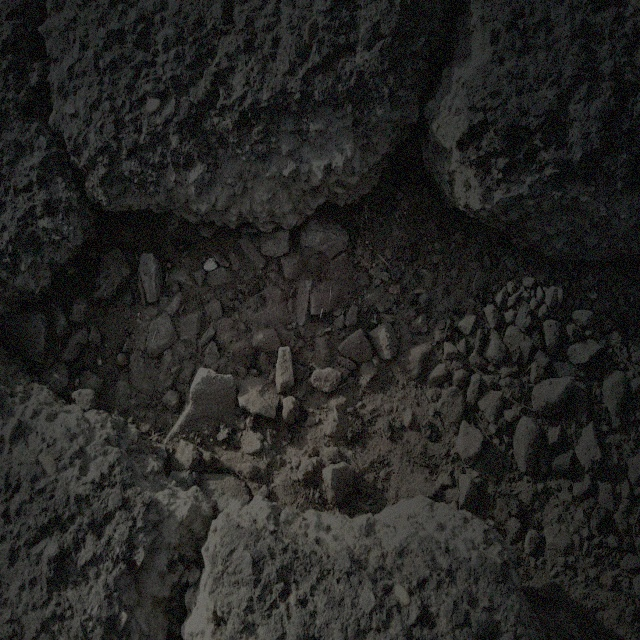pothole: (8, 124, 588, 590)
